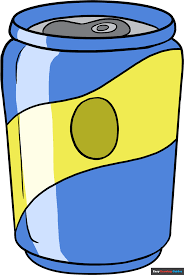can: (2, 1, 174, 275)
